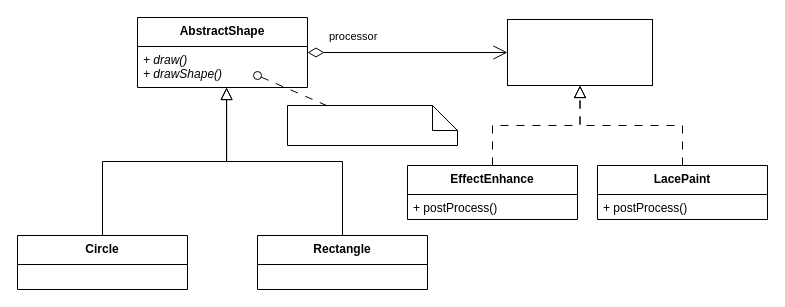
Some shapes in this 785 by 307 pixel diagram are drawn without their labels. Each missing label, with the centre of its shape:
<<Interface>> PostProcessor + postProcess(): (579,52)
imp.operationImpl(): (372,125)
